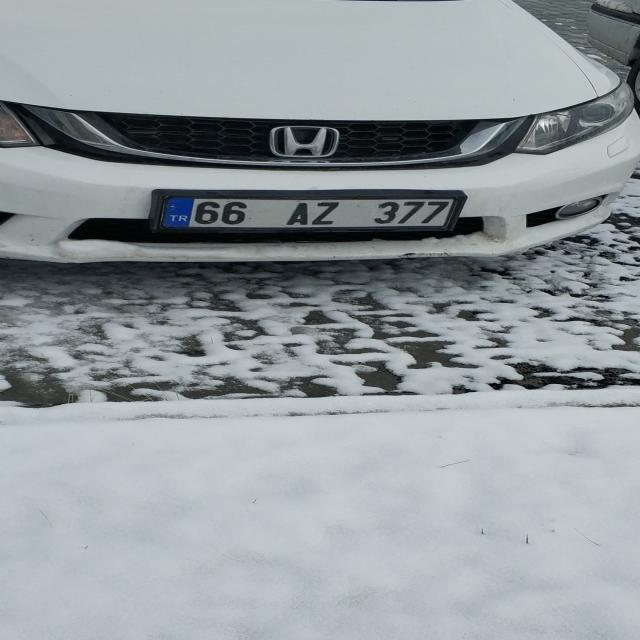plate: (162, 197, 455, 227)
